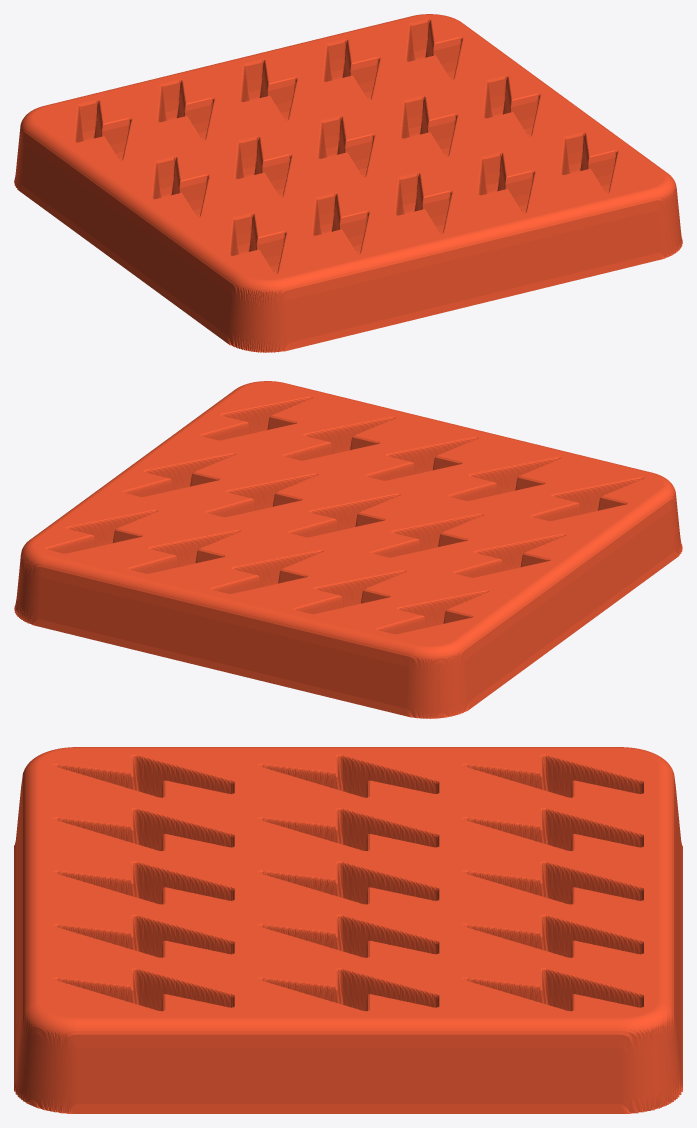
Rendered from mold.glb.
3 views of the same model, one above another, from view 1: azimuth 30°, elevation 25°; view 2: azimuth 150°, elevation 25°; view 3: azimuth 270°, elevation 25° (orthographic). The views are drawn at different scales.
Visible parts, largest first — view 1: geometry_0; view 2: geometry_0; view 3: geometry_0.
Boxes of the visible parts, left/top/right/bottom form: geometry_0: left=14, top=14, right=682, bottom=352; geometry_0: left=14, top=381, right=682, bottom=718; geometry_0: left=14, top=747, right=682, bottom=1113.
Bounding box in the file's own units: 0.0992 × 0.0136 × 0.0966.
